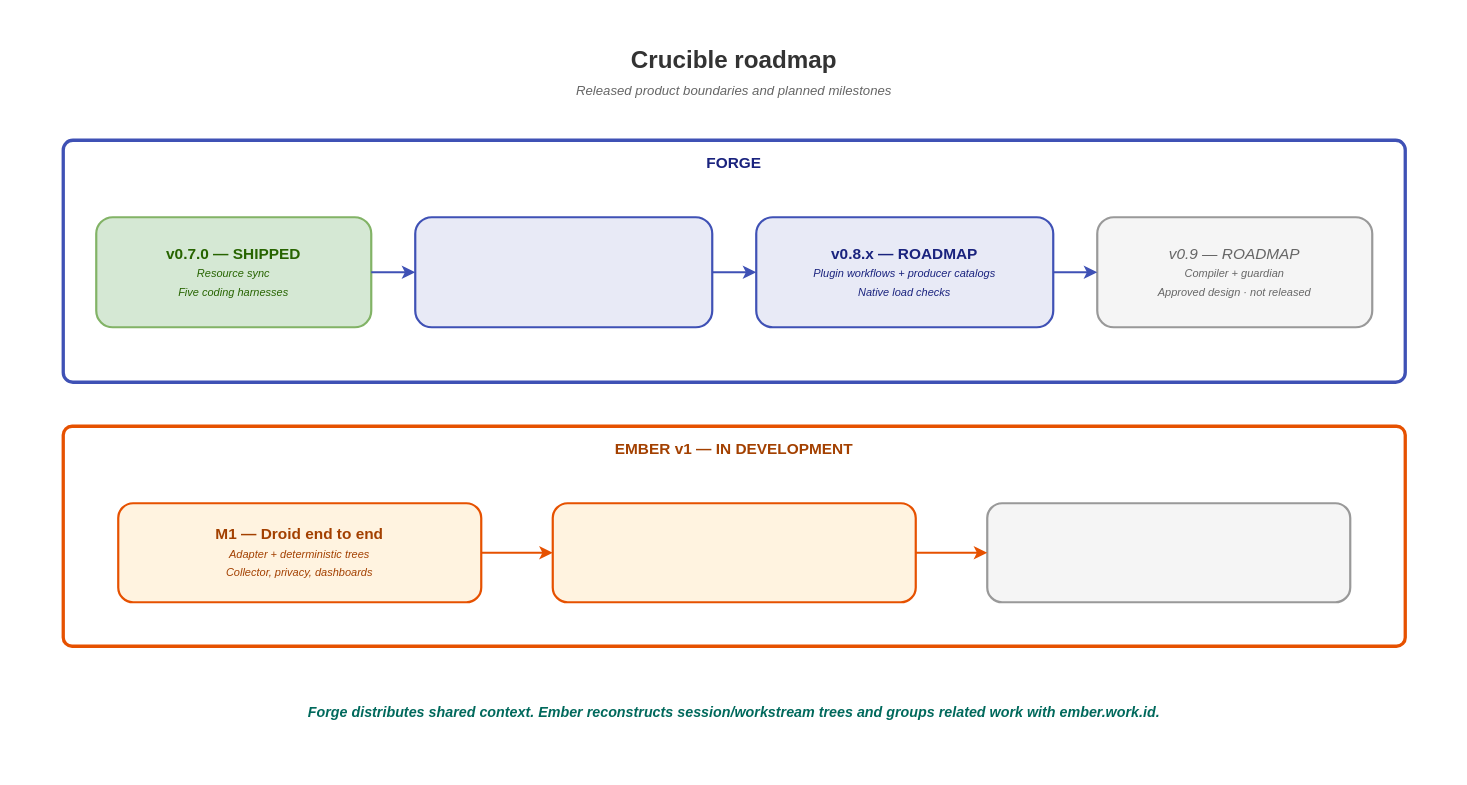
The diagram is 1467 pixels wide and 785 high, and some of its shapes have lost their labels. Each missing label, with the centre of its shape:
"M2 — Claude Code + attribution Human attribution Optional gateway" belongs at pixel 733 552.
"M3 — v0.1.0 Local stack Install + release" belongs at pixel 1168 552.
"v0.8 — ROADMAP Agent Plugins 1.0 Native Droid + Claude Code delivery" belongs at pixel 563 272.
